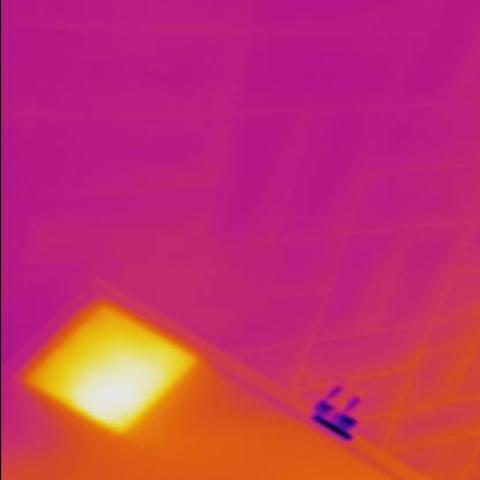fault: (48, 311, 186, 421)
